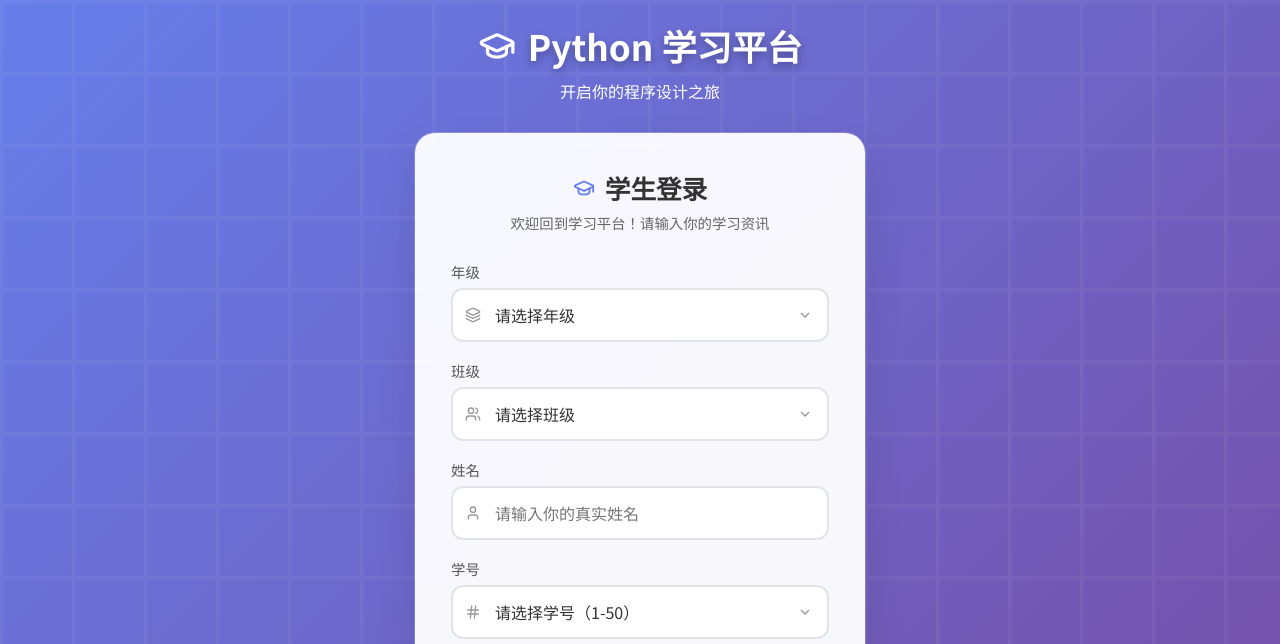
Test: Login.jsx › shows field error on wrong password
Select "七年级" in the dropdown below "年级" at {"x": 640, "y": 315}, box [451,288,829,342]
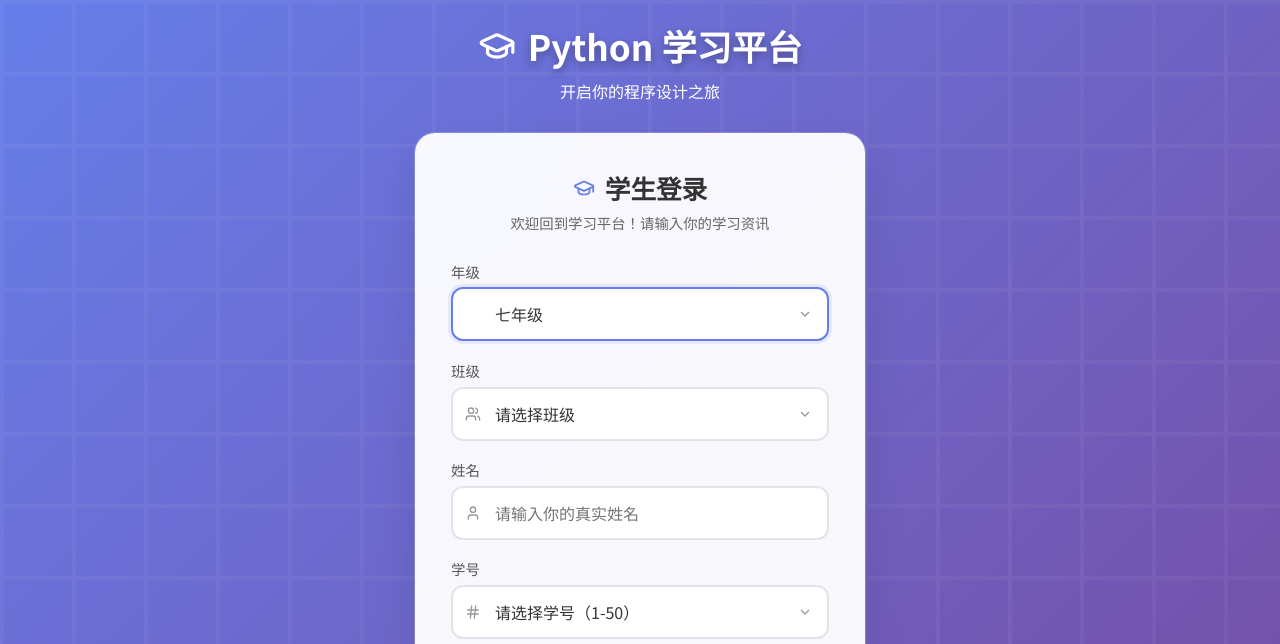
Select "1班" in the dropdown below "班级" at {"x": 640, "y": 414}, box [451,387,829,441]
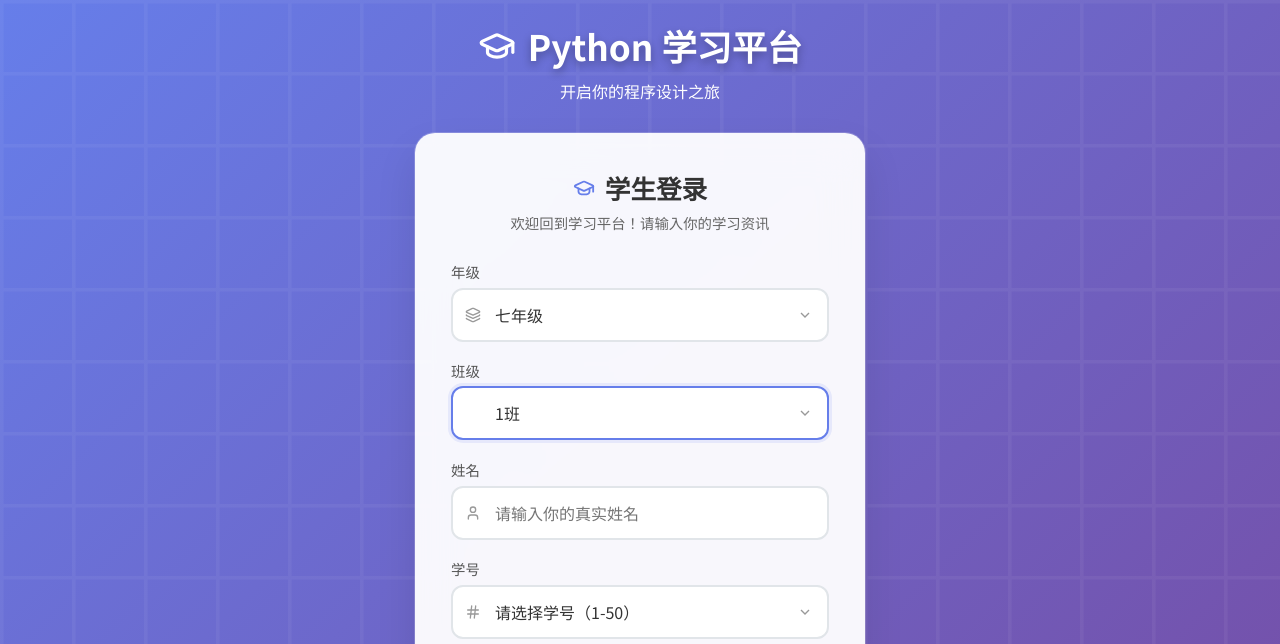
Type "张三" into the field with placeholder "请输入你的真实姓名".
click(640, 513); type("张三")  # box [451,486,829,540]
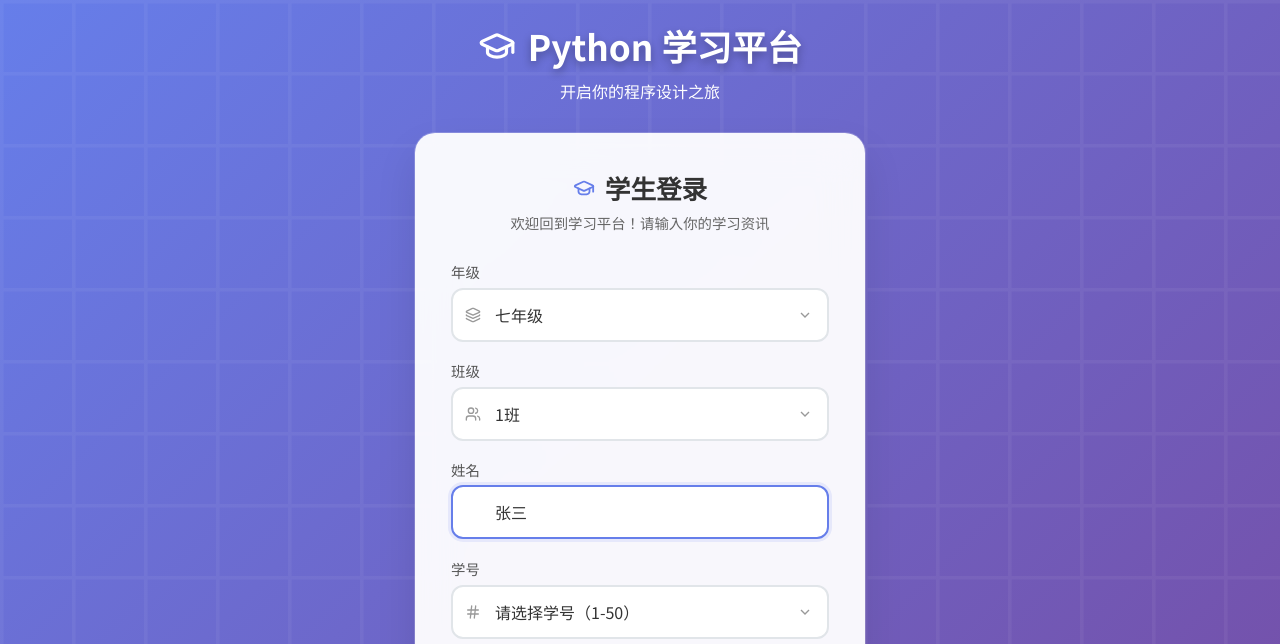
Select "5" in the dropdown below "学号" at {"x": 640, "y": 612}, box [451,585,829,639]
(page scrolled)
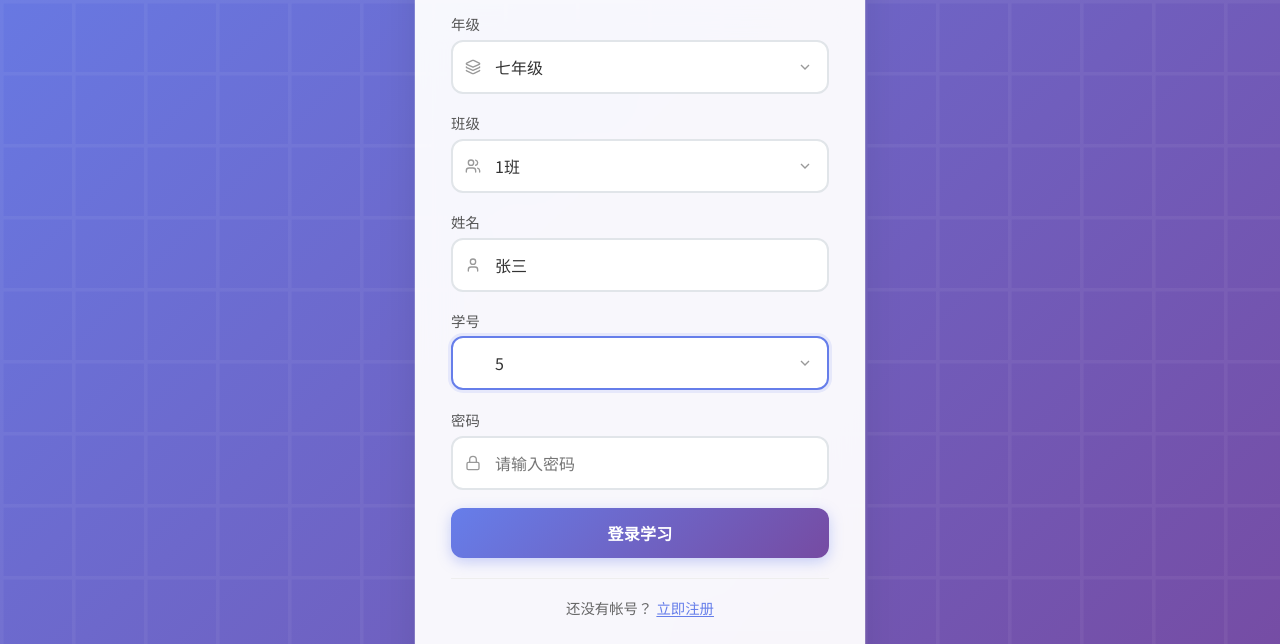
Type "wrongpassword" into the password field with placeholder "请输入密码".
click(640, 463); type("wrongpassword")  # box [451,436,829,490]
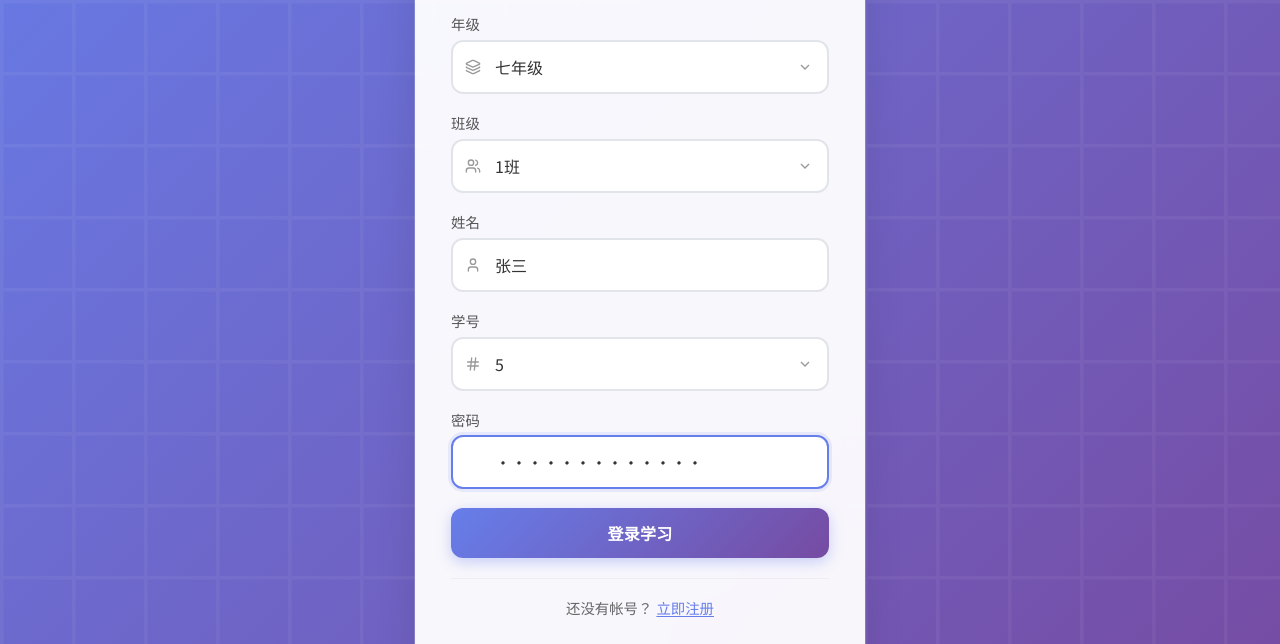
Click the button "登录学习".
click(640, 533)  # box [451,508,829,558]
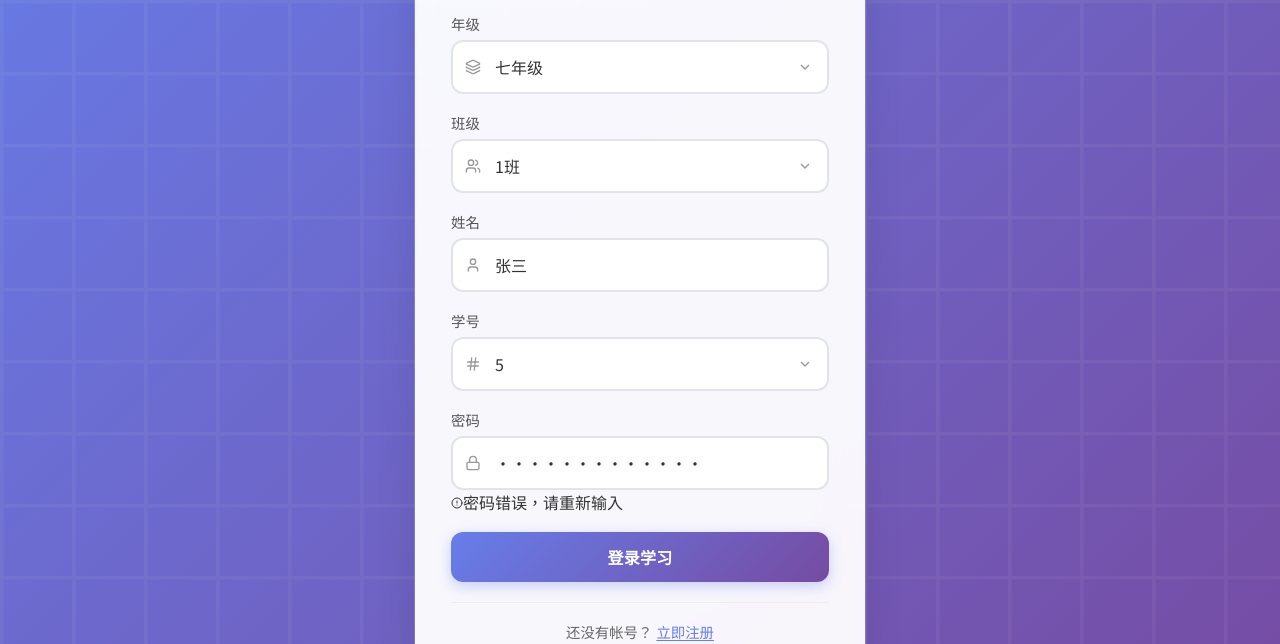
Now the text "密码错误，请重新输入" is shown, box [451,490,623,514]
